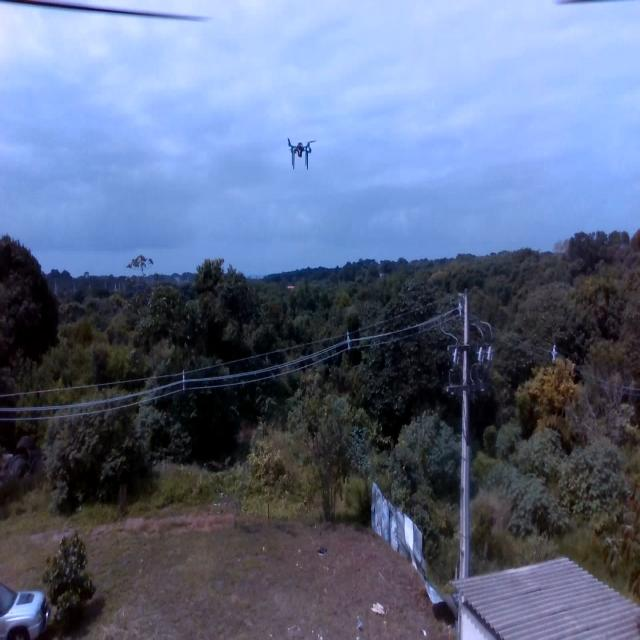-uav-: (282, 124, 322, 181)
